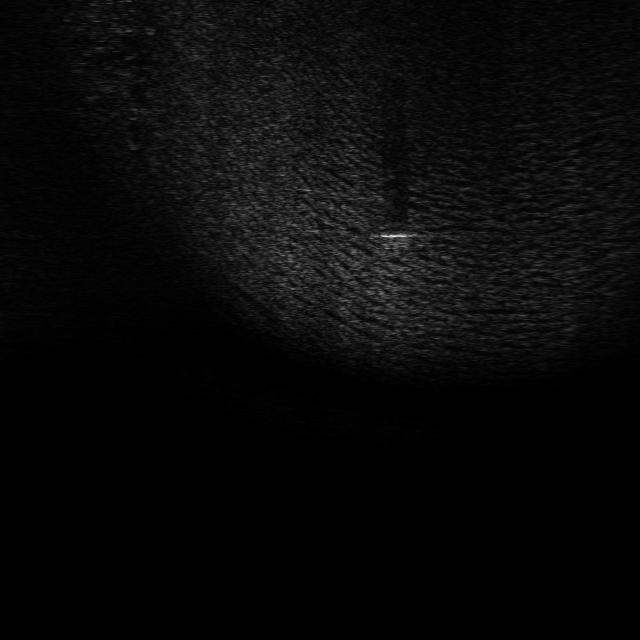cube: (379, 231, 413, 252)
